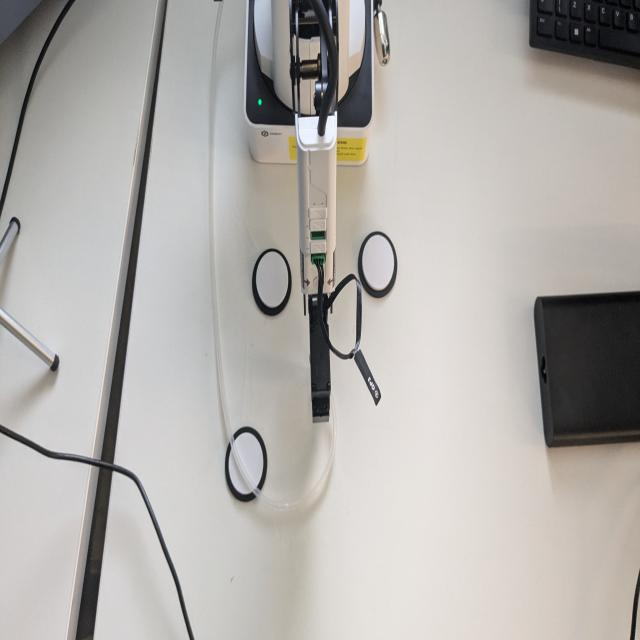Robot-end-effector-HF8z: (306, 308, 336, 427)
